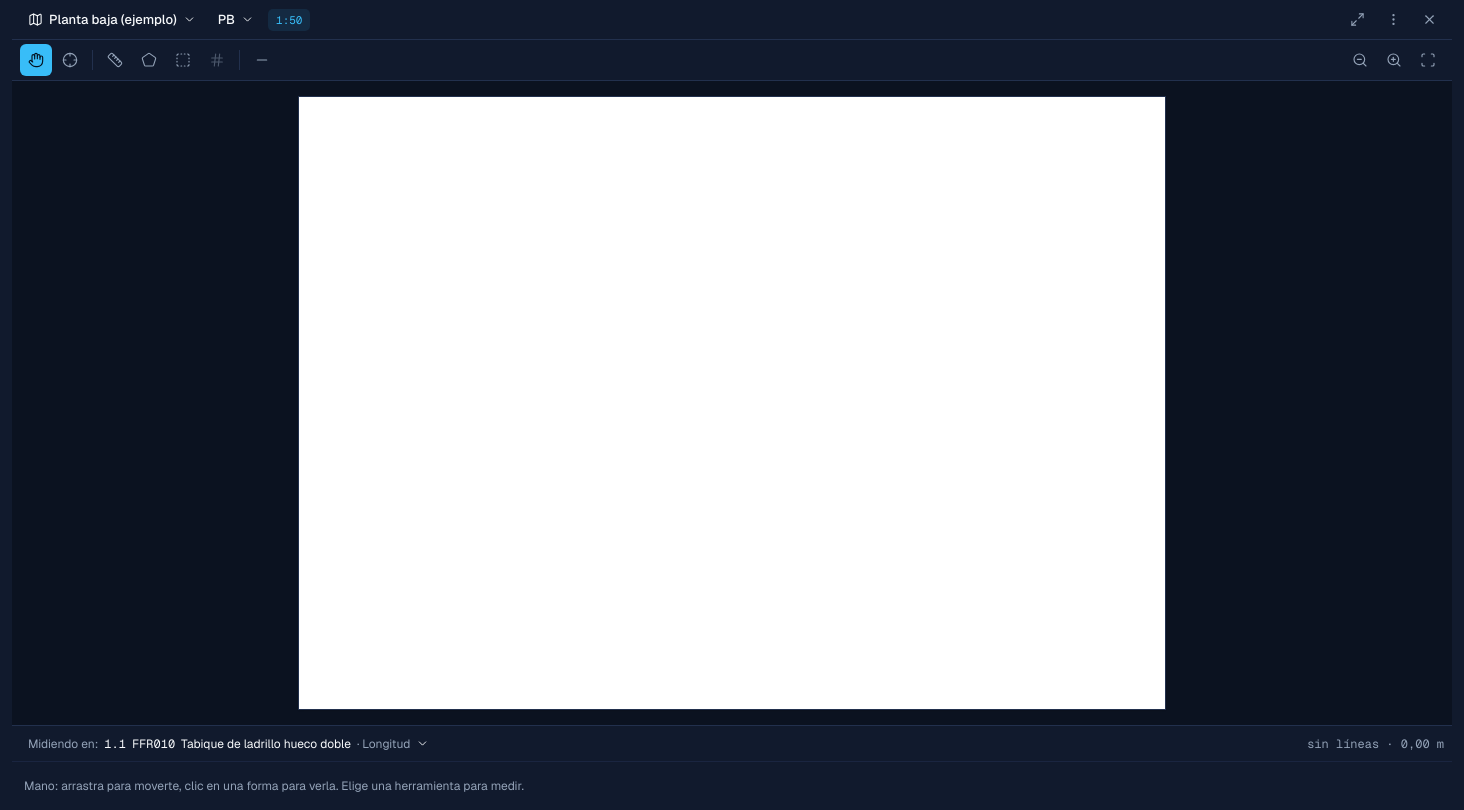
medir desde el visor › Esc a medio dibujo descarta la forma sin cerrar el visor ni la partida
The image size is (1464, 810).
Click the radio button named "Longitud".
click(115, 60)  # box top-left (99, 44), bottom-right (131, 76)
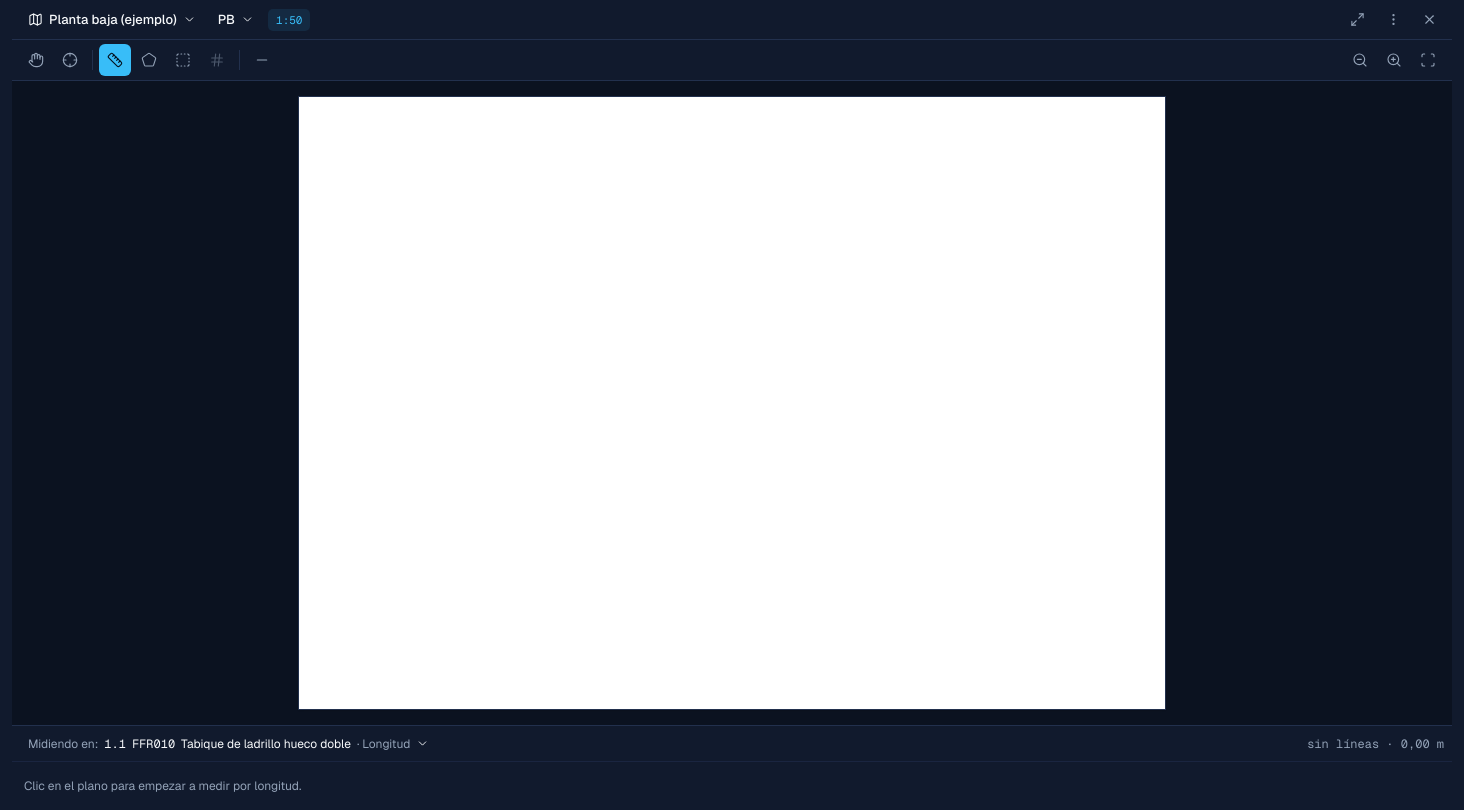
Click the element named "Plano PB, 1:50, herramienta longitud".
click(732, 403)  # box top-left (12, 81), bottom-right (1452, 725)
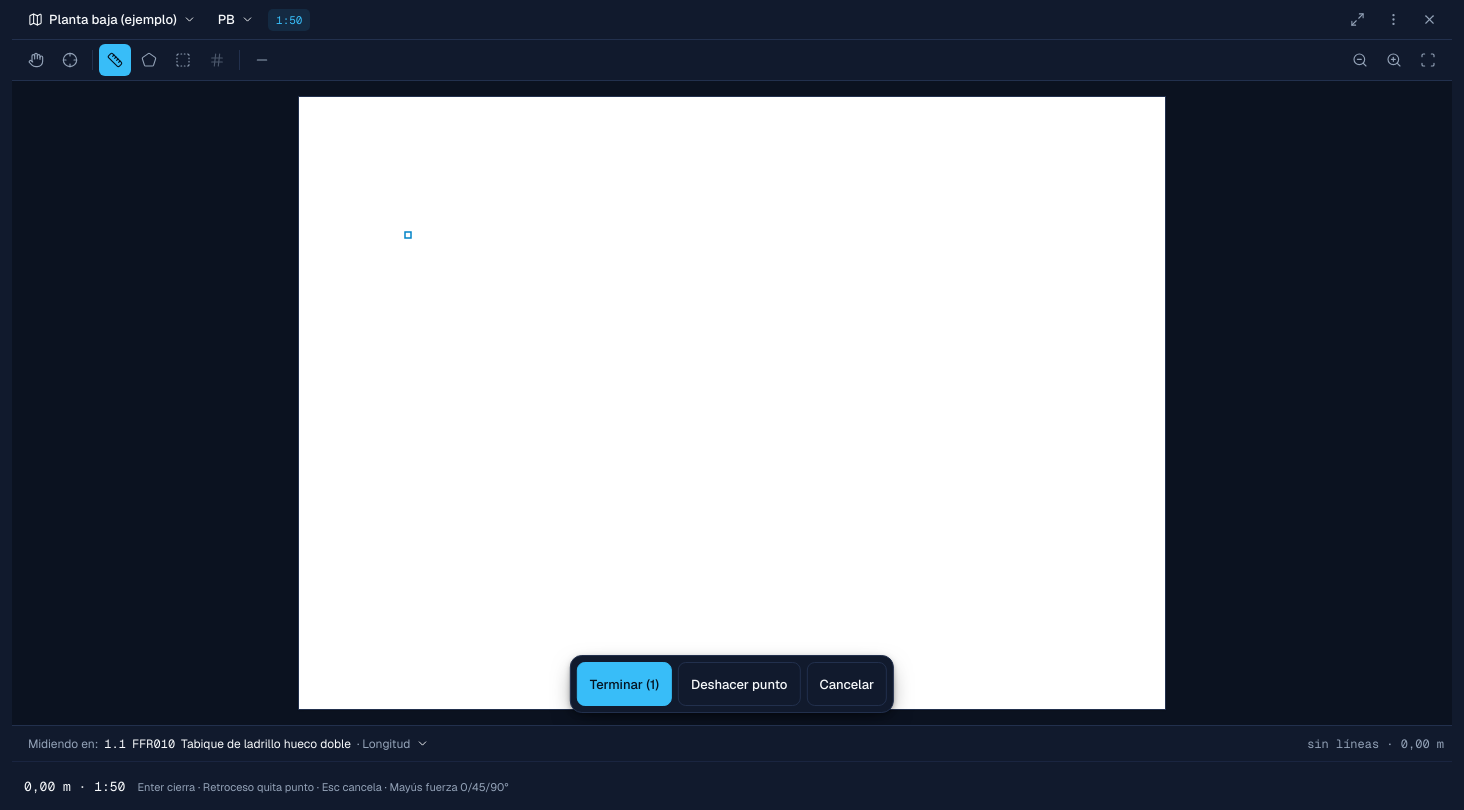
Click the element named "Plano PB, 1:50, herramienta longitud".
click(732, 403)  # box top-left (12, 81), bottom-right (1452, 725)
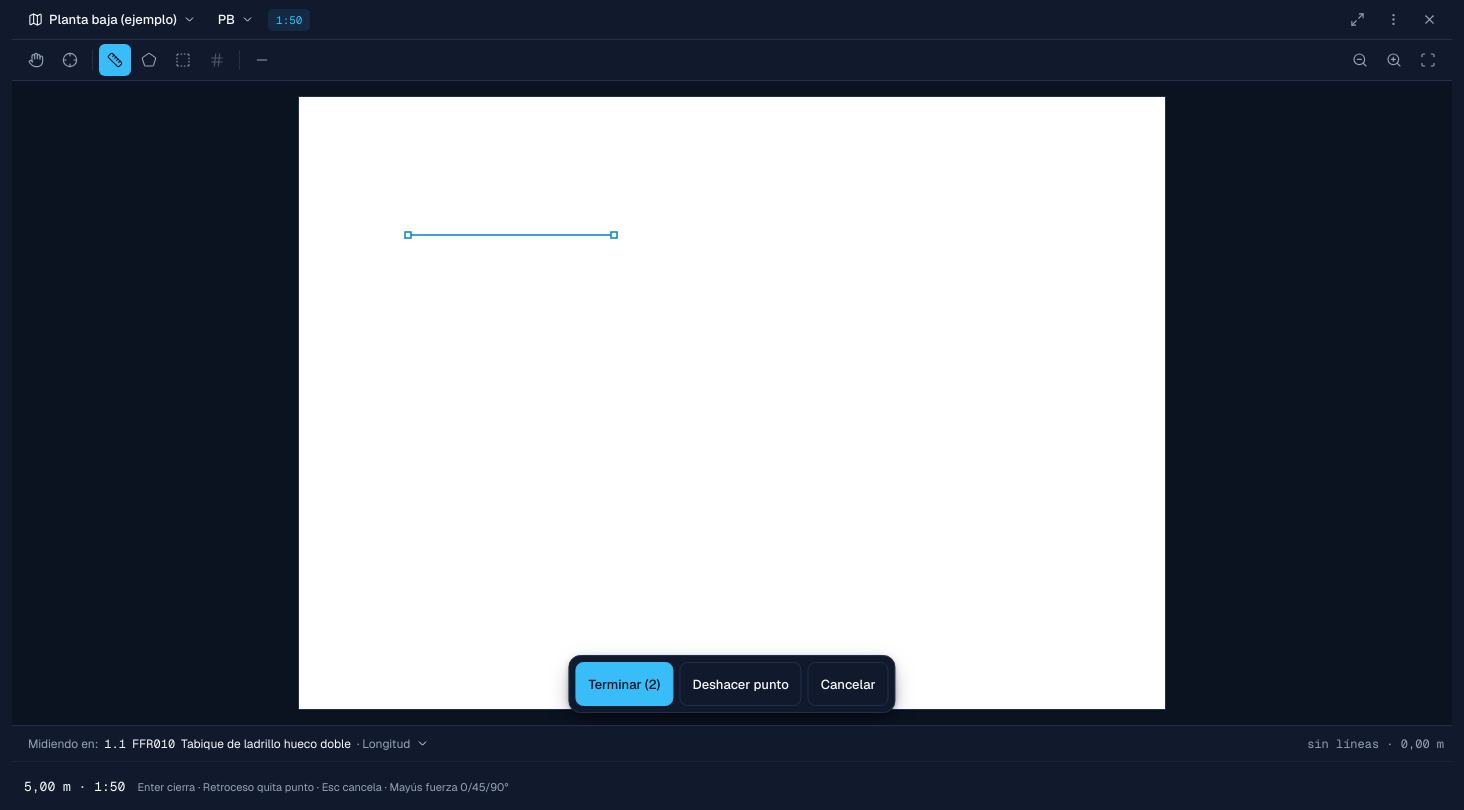
Press Escape in the element that starts with "Terminar ("
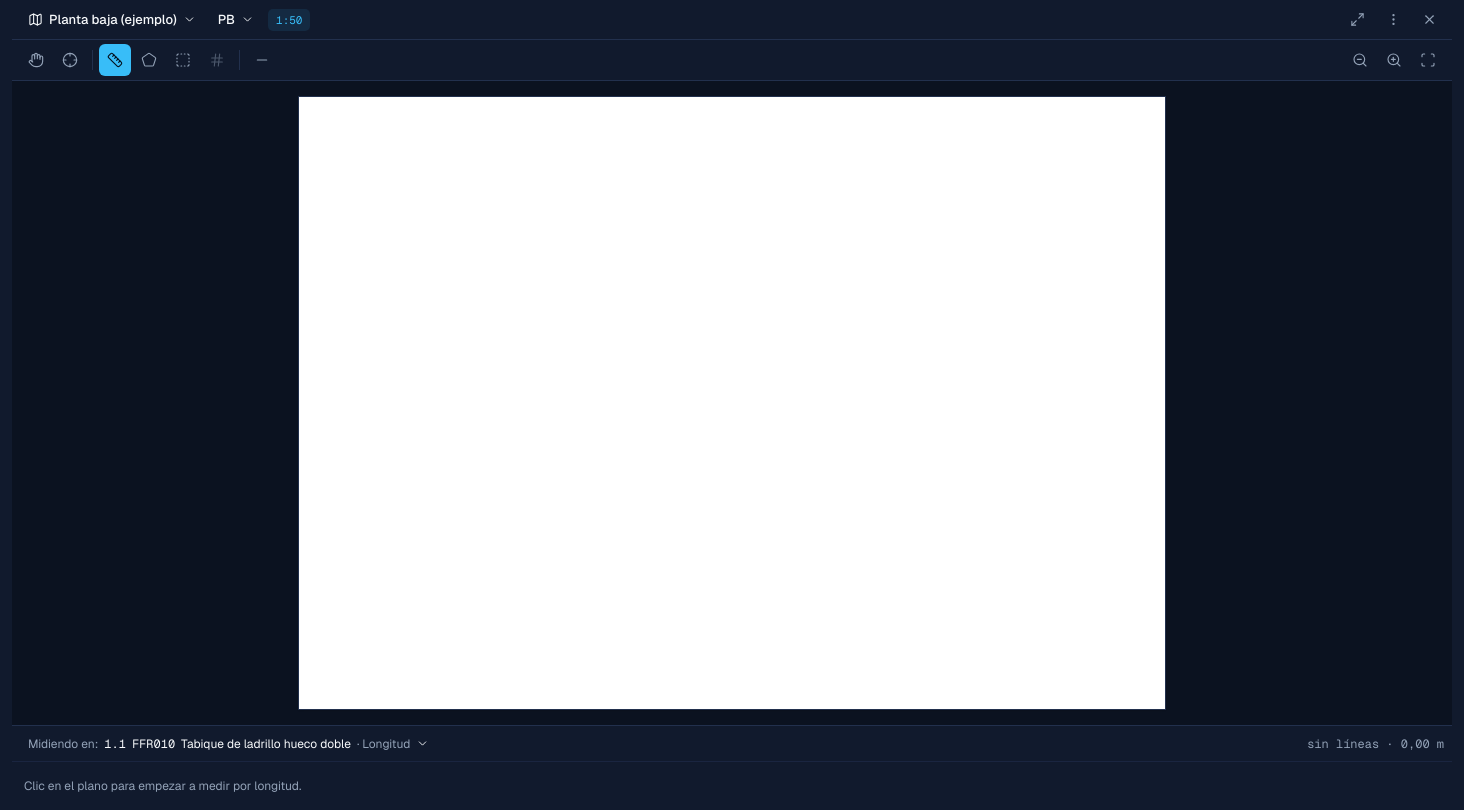
Expected: the button "Terminar" is gone
